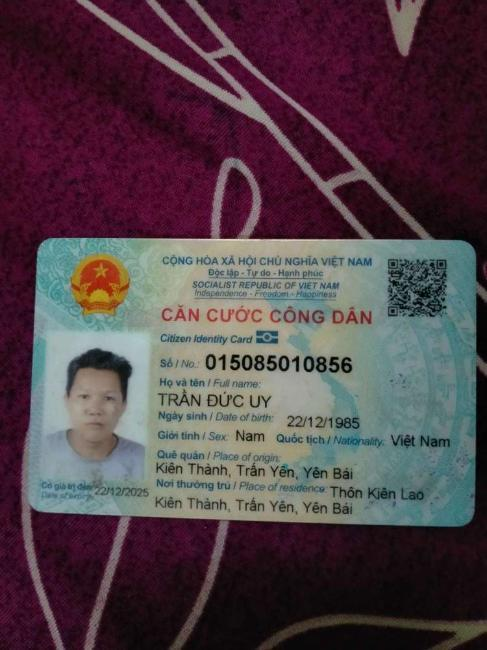ID: (201, 349, 361, 378)
birth: (285, 408, 362, 433)
name: (152, 390, 276, 410)
place: (152, 460, 359, 481)
residence: (153, 493, 359, 518), (327, 482, 427, 505)
